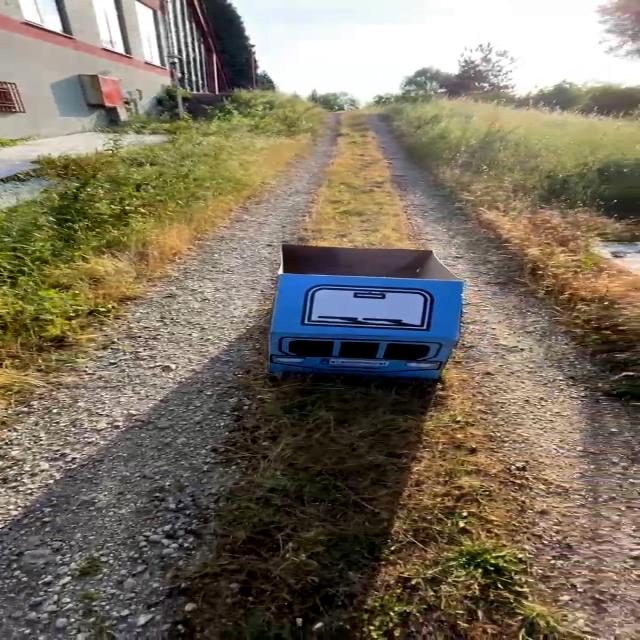blue_car: (218, 230, 503, 401)
